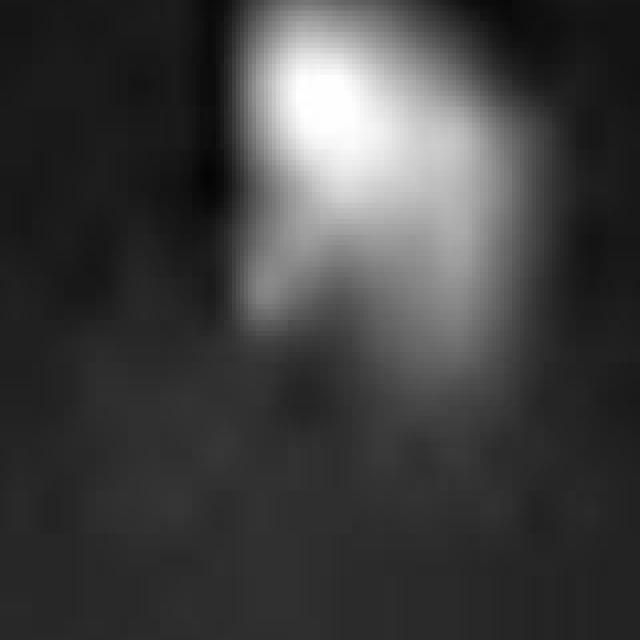person: (193, 1, 553, 422)
